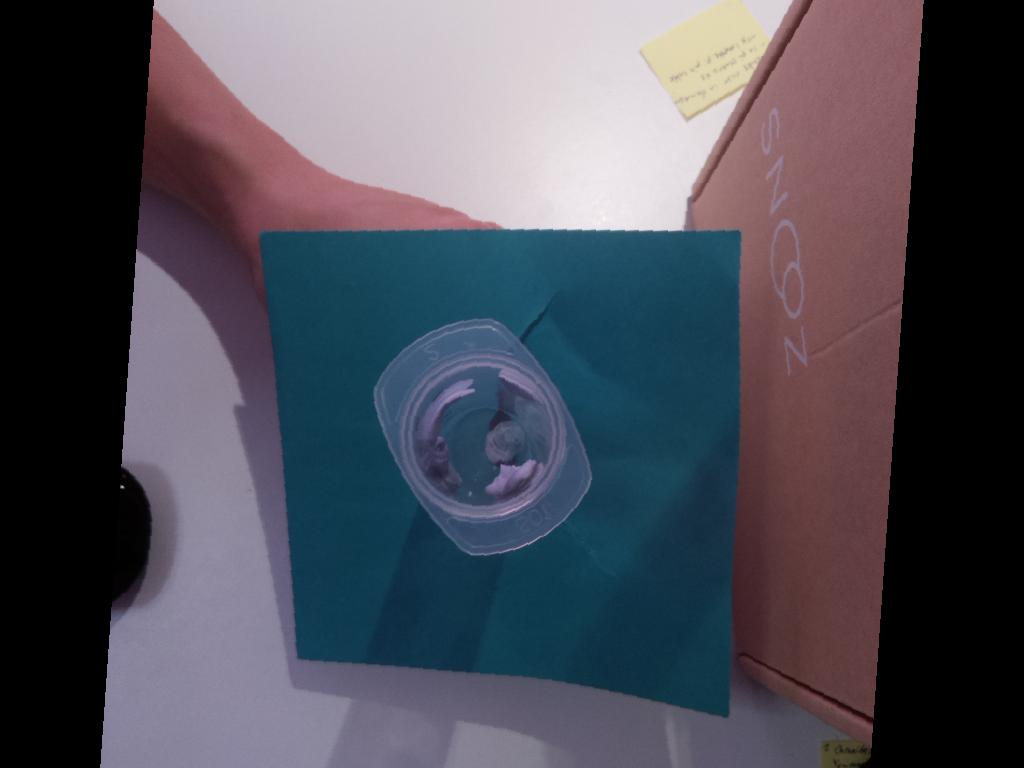dirty: (372, 316, 593, 558)
